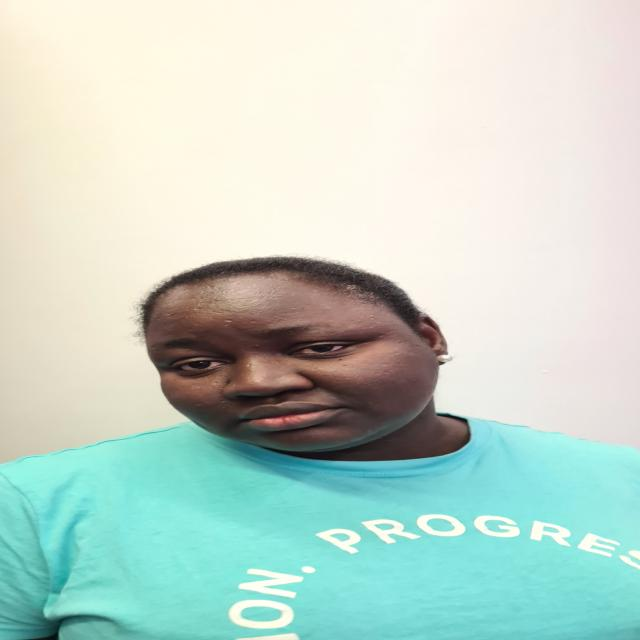sad: (123, 249, 455, 459)
